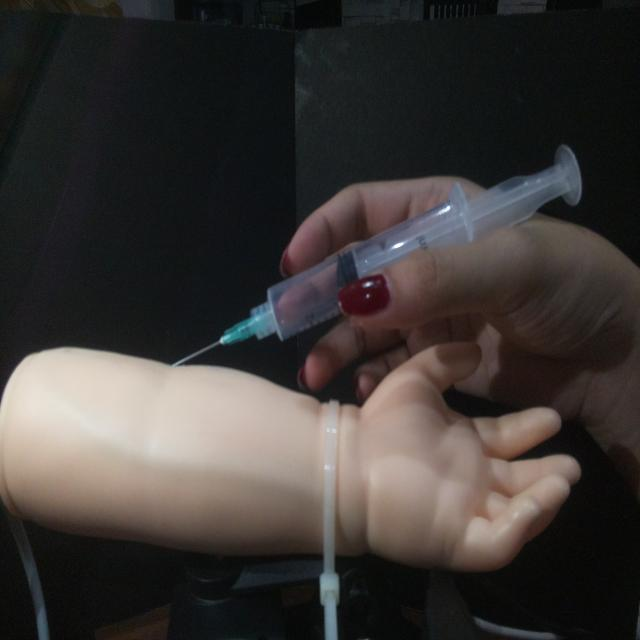23deg: (168, 139, 586, 369)
